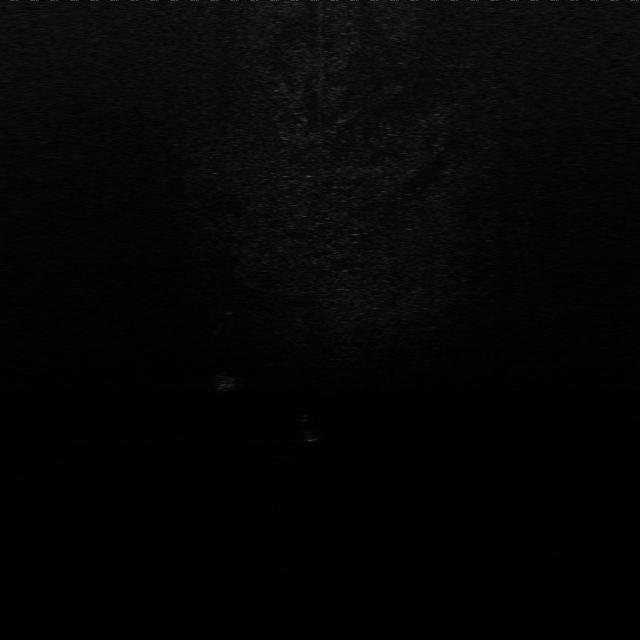ball: (218, 301, 241, 319)
circle cage: (202, 368, 243, 393)
tyre: (294, 408, 334, 446)
